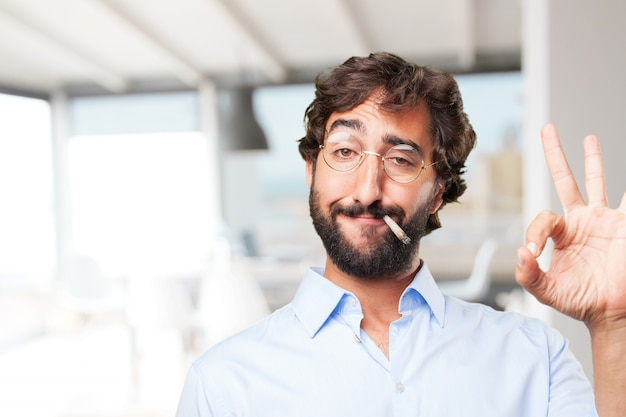cigarette: (381, 215, 411, 246)
